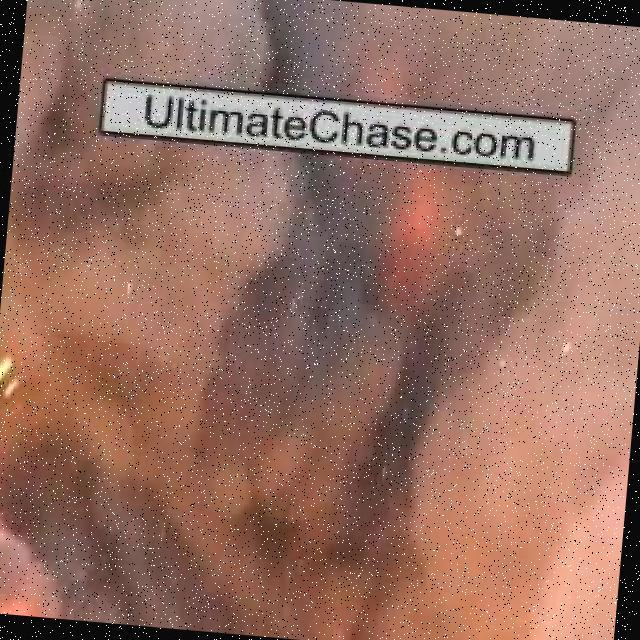Fire: (351, 20, 492, 310), (0, 265, 157, 508)
